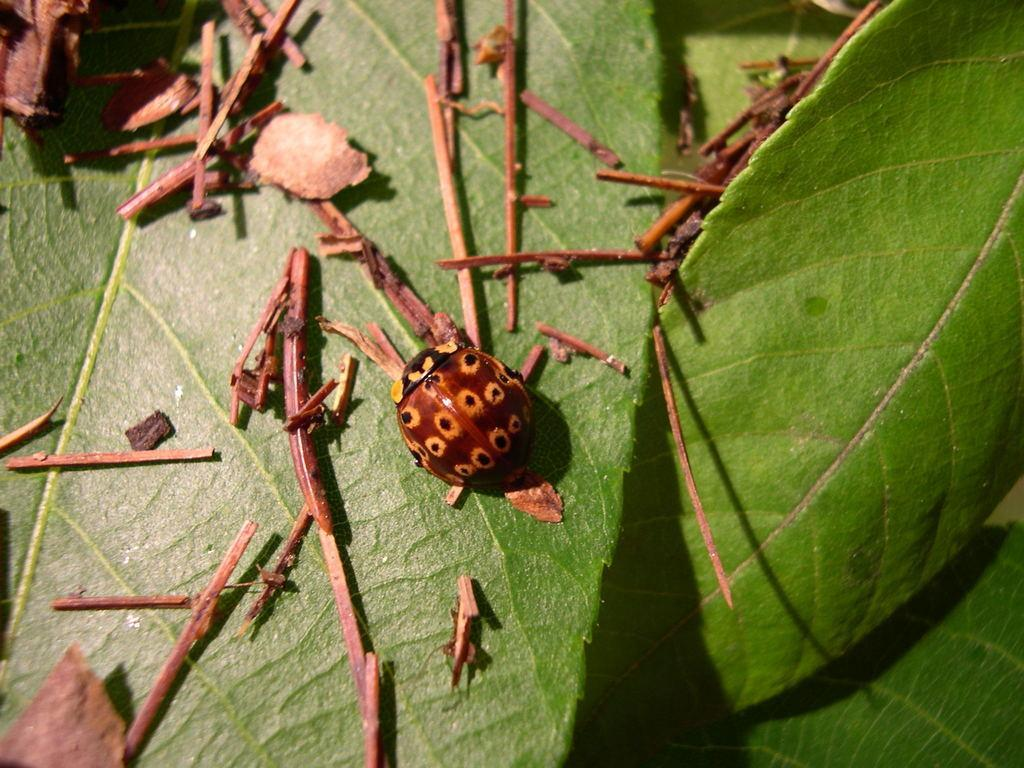ladybug: (391, 339, 543, 491)
